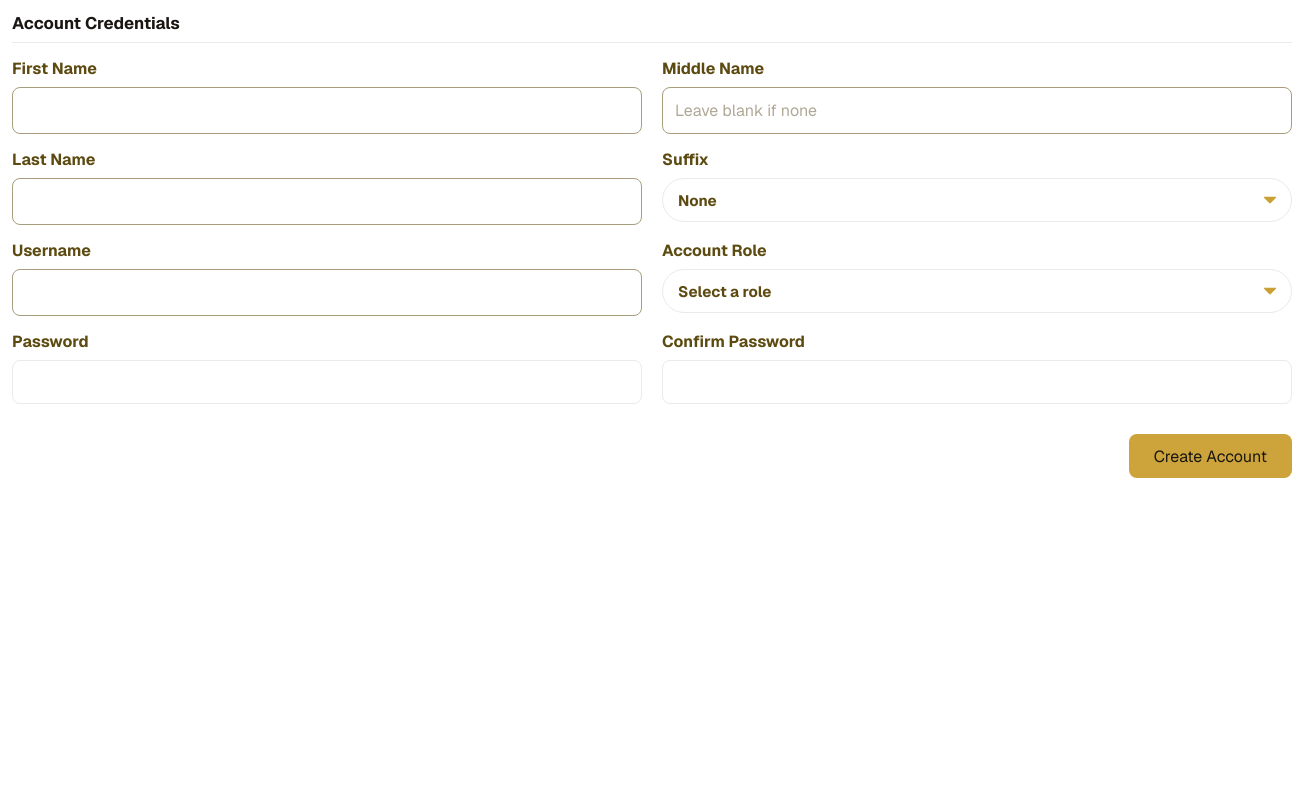
Test case: AccountForm › does not show the Job Information fields until Worker is selected
Expected: the field labelled "Role / Specialization" is not shown
Select "Worker" in the dropdown labelled "Account Role" at (977, 291), box x1=662 y1=269 x2=1292 y2=313
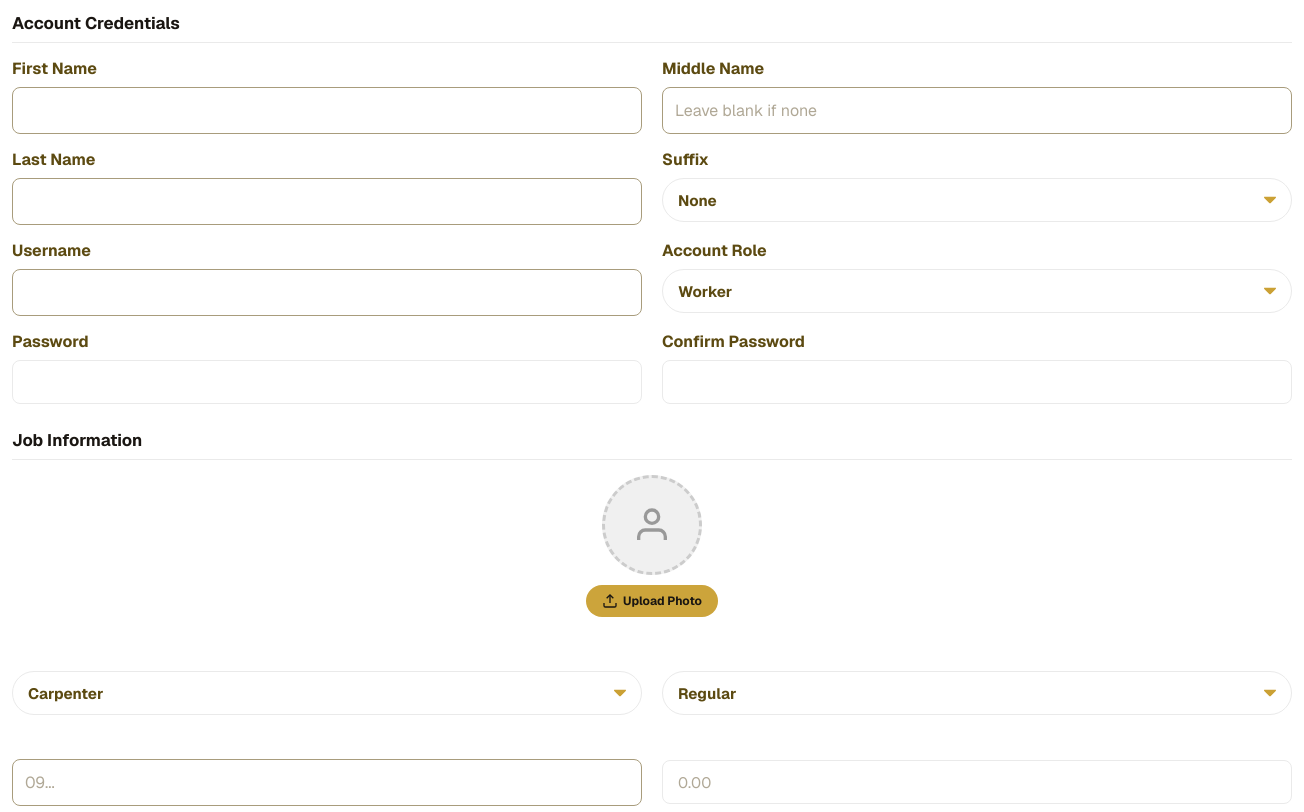
Expected: the dropdown labelled "Role / Specialization" is shown, x1=12 y1=671 x2=642 y2=715
Expected: the dropdown labelled "Worker Type" is shown, x1=662 y1=671 x2=1292 y2=715
Expected: the field labelled "Contact Number" is shown, x1=12 y1=759 x2=642 y2=806
